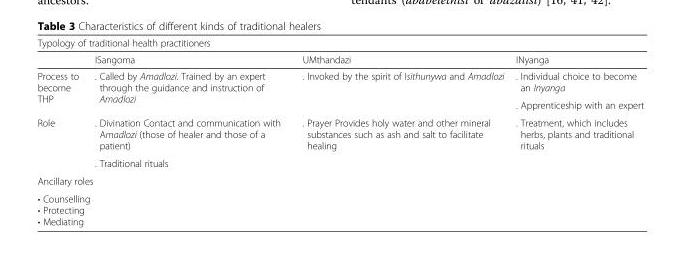table: (36, 36, 642, 226)
table column: (290, 36, 509, 226), (86, 36, 290, 226), (509, 36, 642, 226), (36, 36, 86, 226)
table column header: (36, 36, 642, 67)
table projected row header: (36, 189, 642, 226), (36, 171, 642, 189)
table row: (36, 113, 642, 154), (36, 189, 642, 226), (36, 67, 642, 95), (36, 95, 642, 113), (36, 171, 642, 189), (36, 50, 642, 67), (36, 154, 642, 171), (36, 36, 642, 50)
table spanning cell: (290, 113, 509, 171), (290, 67, 509, 113), (86, 67, 290, 113), (36, 36, 642, 50), (509, 113, 642, 171), (36, 113, 86, 171), (36, 67, 86, 113)
